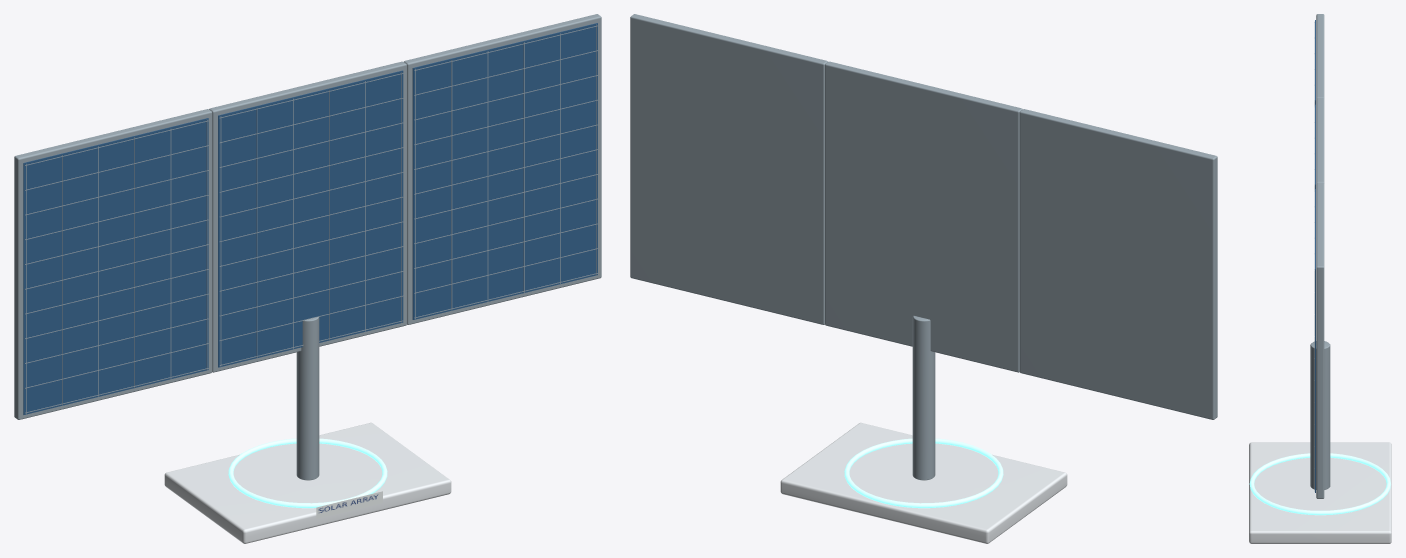
Rendered from solar_array.glb.
3 renders of one model, left to right at view 1: azimuth 30°, elevation 25°; view 2: azimuth 150°, elevation 25°; view 3: azimuth 270°, elevation 25°, orthographic. The views are drawn at different scales.
Parts seen in each view (by area): view 1: Wing-1_Cells, Wing1_Cells, Centre_Cells, Solar_Base, Wing-1_Frame, Wing1_Frame, Centre_Frame, Solar_Mast, Array_Pedestal_LED, Solar_Base_Tag; view 2: Wing-1_Frame, Wing1_Frame, Centre_Frame, Solar_Base, Solar_Mast, Array_Pedestal_LED; view 3: Solar_Base, Wing1_Frame, Solar_Mast, Array_Pedestal_LED, Centre_Frame, Wing-1_Frame, Wing1_Cells, Wing1_Bus1.025.
Boxes of the visible parts, x1,y1,x2,y2 form: Wing-1_Cells: [23, 118, 208, 414]; Wing1_Cells: [412, 23, 597, 319]; Centre_Cells: [218, 70, 403, 367]; Solar_Base: [164, 422, 451, 543]; Wing-1_Frame: [14, 109, 212, 419]; Wing1_Frame: [404, 14, 601, 324]; Centre_Frame: [209, 61, 406, 372]; Solar_Mast: [296, 317, 319, 480]; Array_Pedestal_LED: [228, 438, 387, 508]; Solar_Base_Tag: [316, 491, 382, 518]; Wing-1_Frame: [1019, 109, 1217, 419]; Wing1_Frame: [630, 14, 827, 324]; Centre_Frame: [825, 61, 1022, 372]; Solar_Base: [780, 422, 1067, 543]; Solar_Mast: [912, 316, 935, 480]; Array_Pedestal_LED: [844, 438, 1003, 508]; Solar_Base: [1249, 442, 1391, 543]; Wing1_Frame: [1316, 183, 1324, 498]; Solar_Mast: [1310, 341, 1330, 489]; Array_Pedestal_LED: [1249, 453, 1390, 515]; Centre_Frame: [1316, 98, 1324, 183]; Wing-1_Frame: [1316, 14, 1324, 99]; Wing1_Cells: [1315, 189, 1315, 492]; Wing1_Bus1.025: [1314, 269, 1314, 491].
Size of the model in its own units: 2.1 by 1.39 by 0.51.
6 materials, 1 textured.
